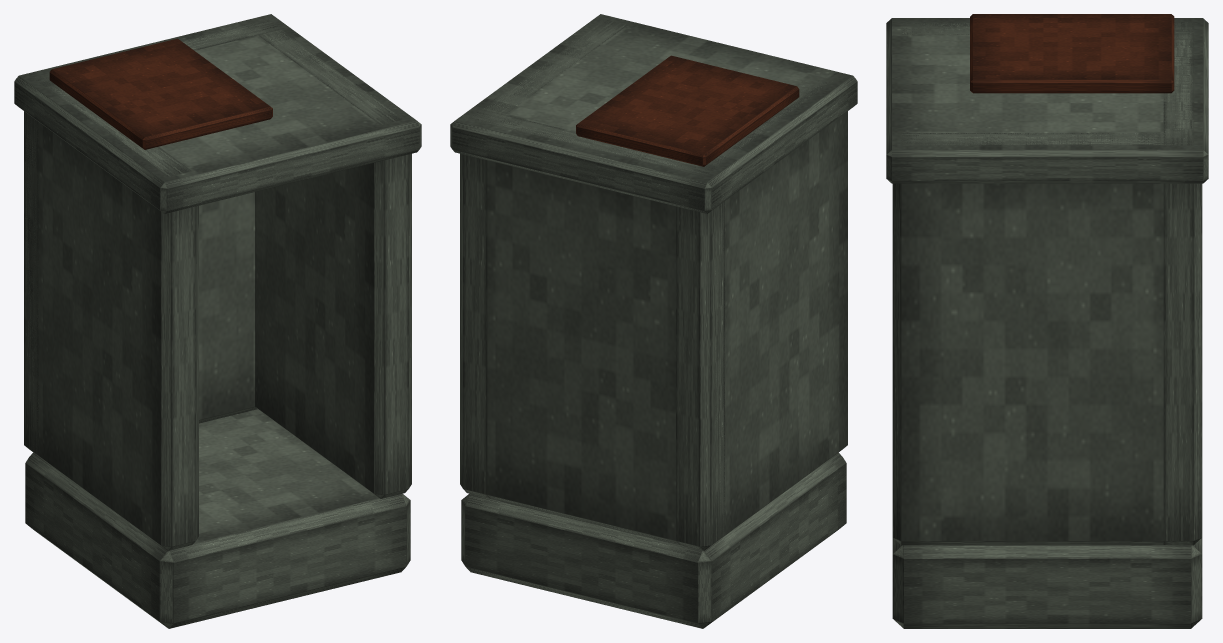
File: THStage_FindSupport_12.fbx
3 renders of one model, left to right at view 1: azimuth 30°, elevation 25°; view 2: azimuth 150°, elevation 25°; view 3: azimuth 270°, elevation 25°, orthographic. The views are drawn at different scales.
Visible parts, largest first — view 1: THStage_FindSupport_12.013; view 2: THStage_FindSupport_12.013; view 3: THStage_FindSupport_12.013.
Boxes of the visible parts, x1,y1,x2,y2 form: THStage_FindSupport_12.013: (14, 14, 421, 628); THStage_FindSupport_12.013: (450, 14, 857, 628); THStage_FindSupport_12.013: (886, 14, 1208, 628).
Size of the model in its own units: 0.344 by 0.586 by 0.344.
1 material, 1 textured.
